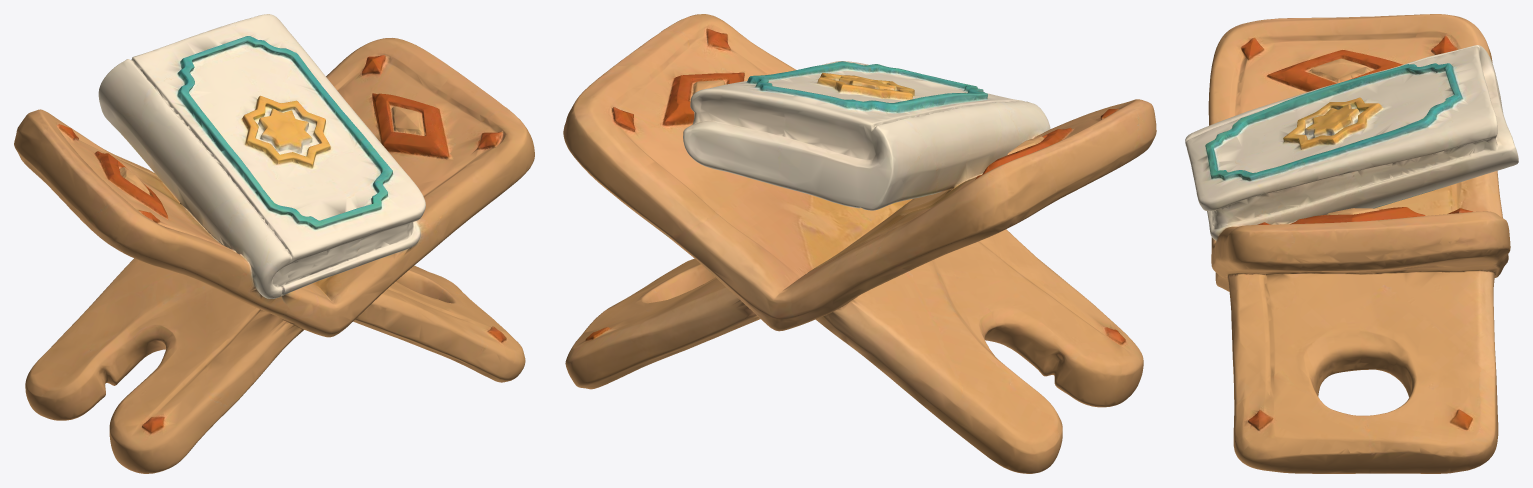
Rendered from wall-art.glb.
The picture shows the model from 3 angles, left to right: view 1: azimuth 30°, elevation 25°; view 2: azimuth 150°, elevation 25°; view 3: azimuth 270°, elevation 25°; orthographic projection. The views are drawn at different scales.
Bounding box in the file's own units: 1.9 × 1.3 × 1.3.
1 material, 1 textured.
